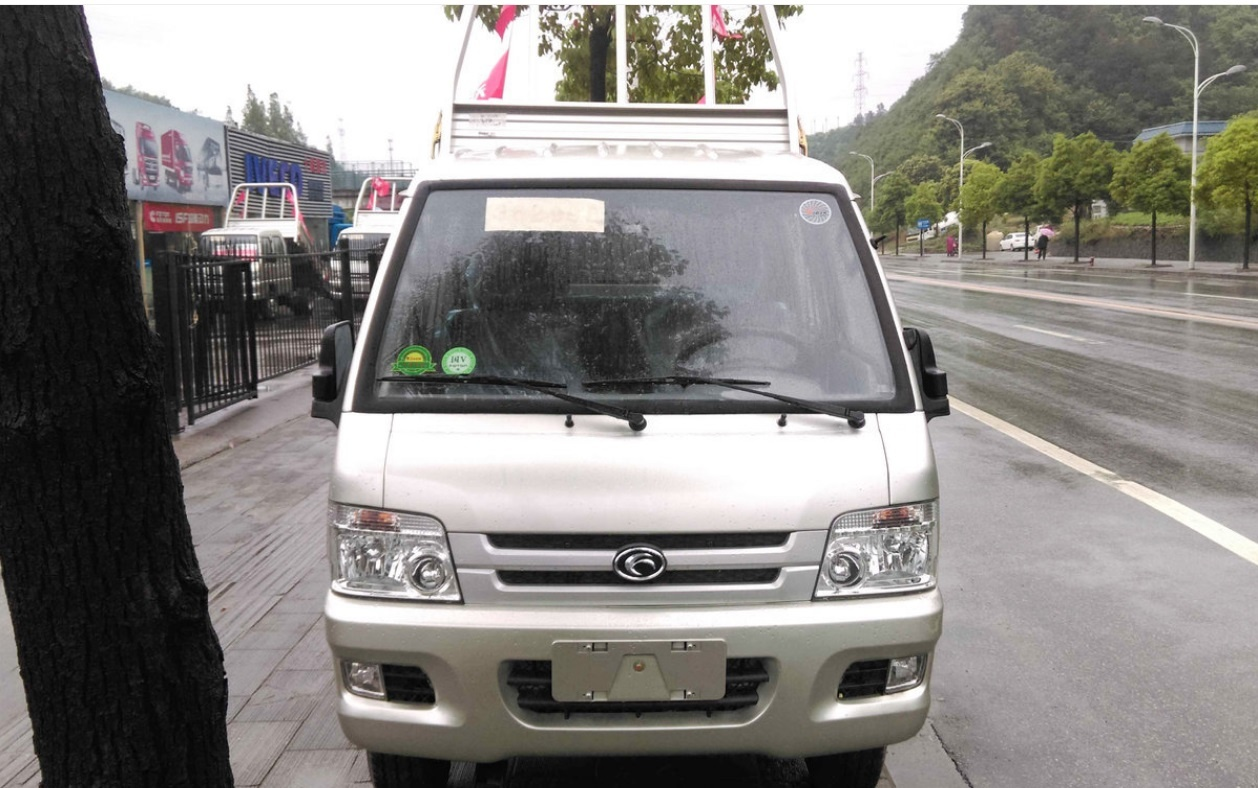truck: (296, 79, 968, 784)
